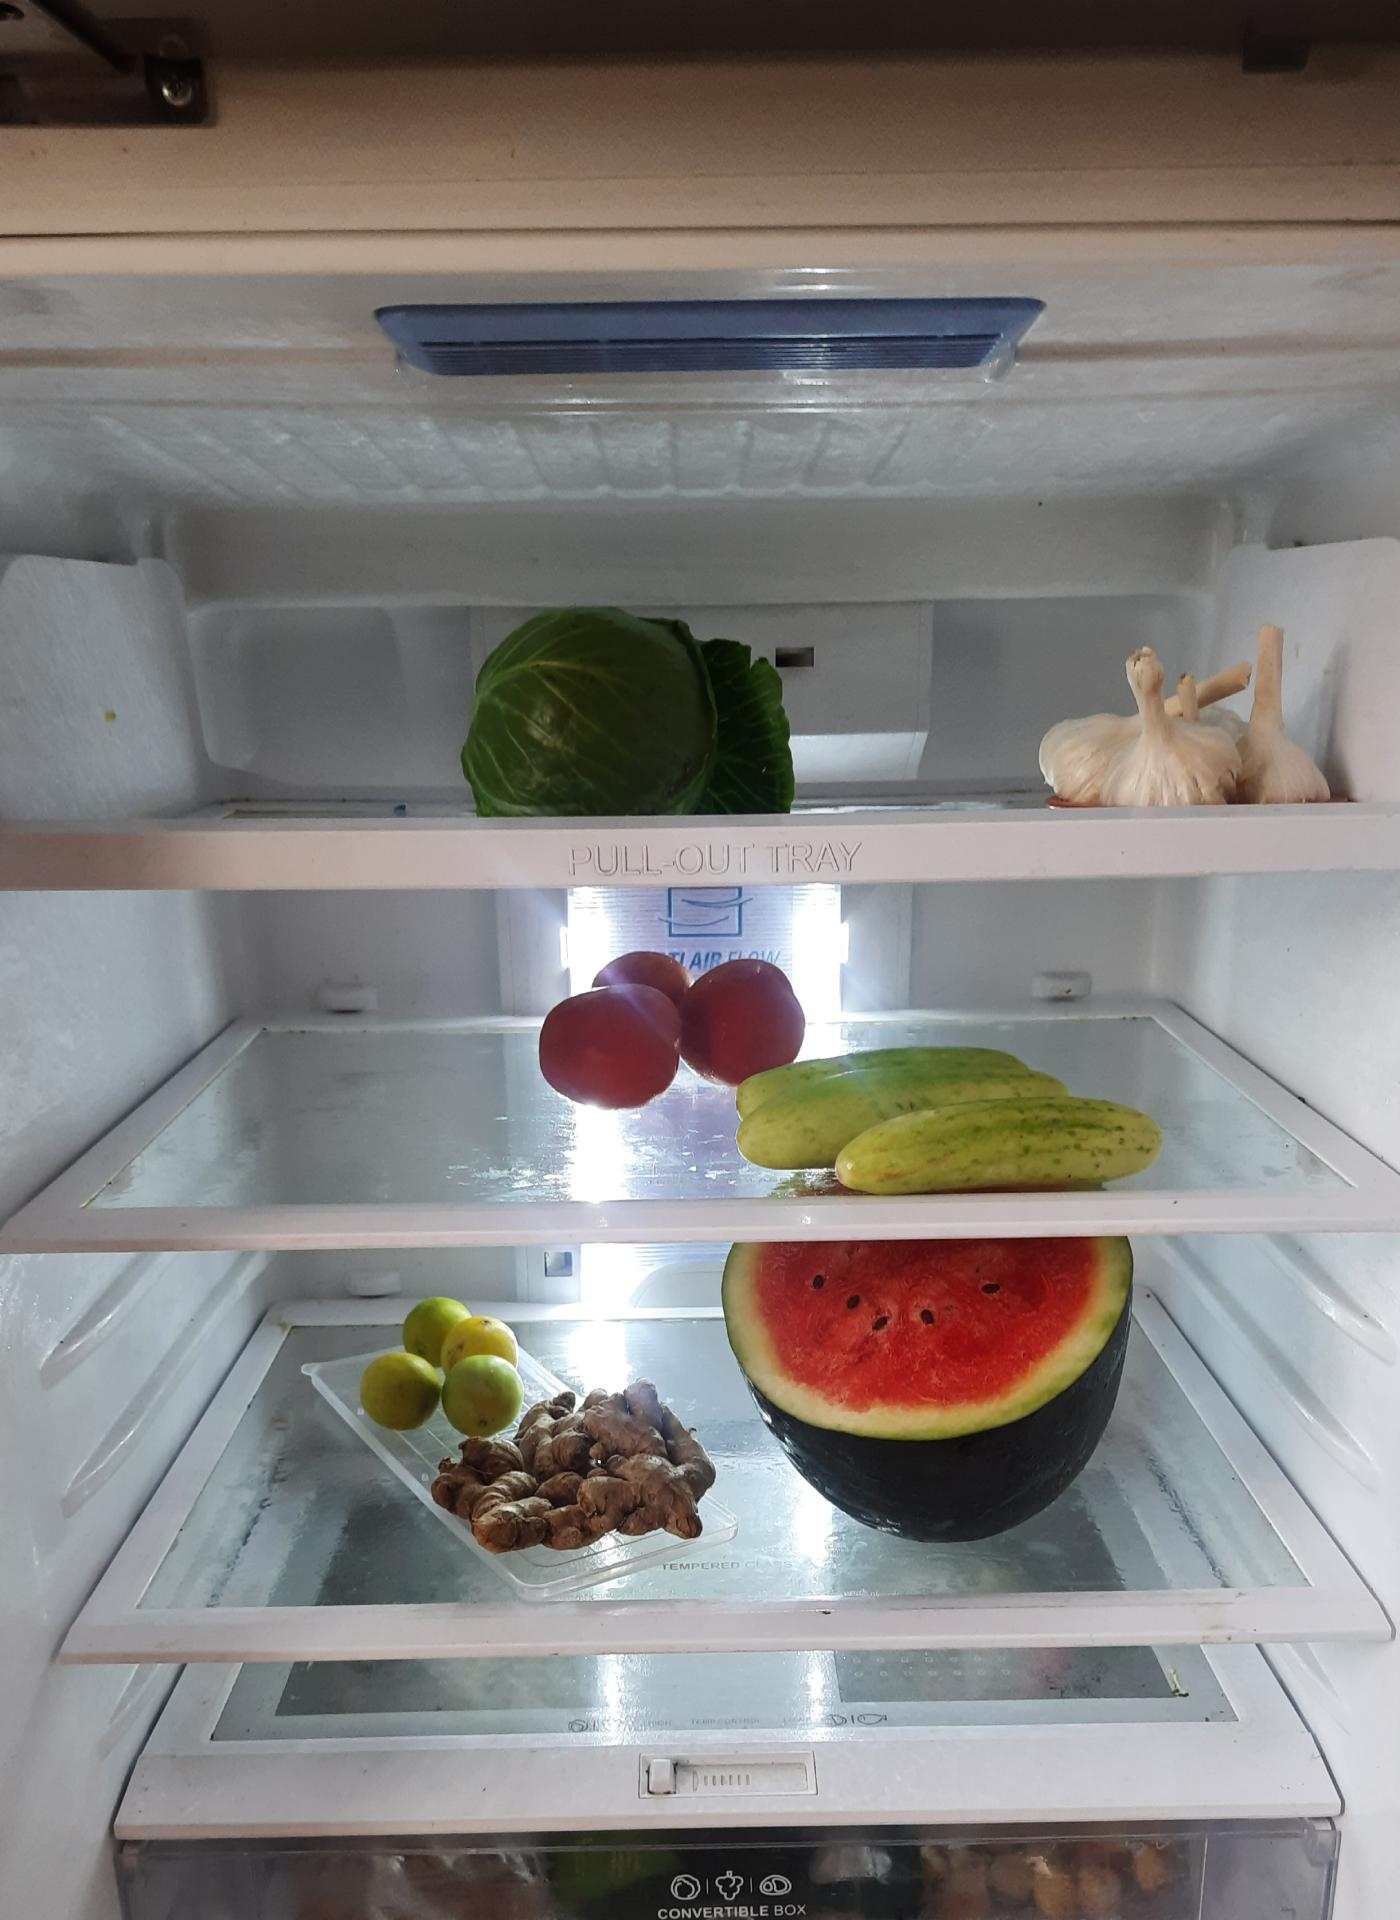cabbage: (456, 602, 777, 808)
cucumber: (737, 1048, 1158, 1187)
garlic: (1029, 632, 1337, 812)
ginger: (438, 1386, 719, 1558)
lemon: (362, 1297, 525, 1433)
tomato: (534, 945, 804, 1102)
watermelon: (726, 1230, 1142, 1538)
